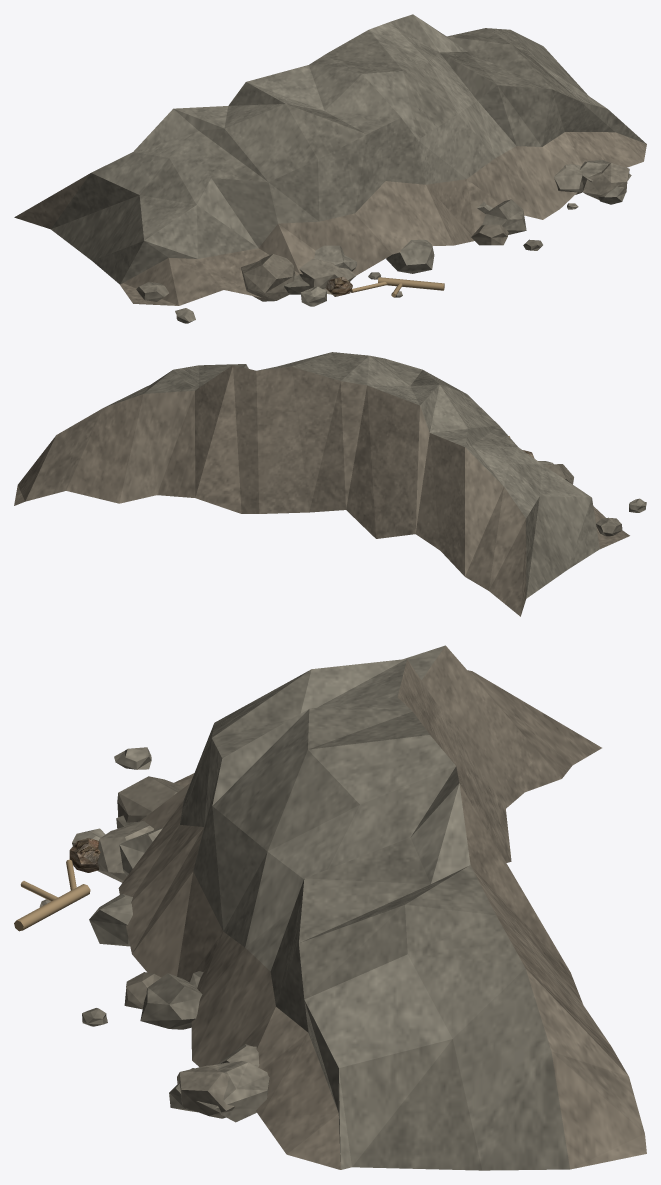
Rendered from quarrySite.glb.
The picture shows the model from 3 angles, top to bottom: view 1: azimuth 30°, elevation 25°; view 2: azimuth 150°, elevation 25°; view 3: azimuth 270°, elevation 25°; orthographic projection. The views are drawn at different scales.
Parts seen in each view (by area): view 1: part_0, part_1; view 2: part_0; view 3: part_0, part_1, part_2.
Boxes of the visible parts, x1=… form: part_0: x1=14, y1=14, x2=646, y2=323; part_1: x1=350, y1=277, x2=444, y2=297; part_0: x1=14, y1=352, x2=646, y2=616; part_0: x1=39, y1=645, x2=646, y2=1170; part_1: x1=14, y1=859, x2=90, y2=931; part_2: x1=69, y1=838, x2=100, y2=872.
Bounding box in the file's own units: 3.83 × 1.06 × 2.43.
Materials: 3 (2 with a texture image).
